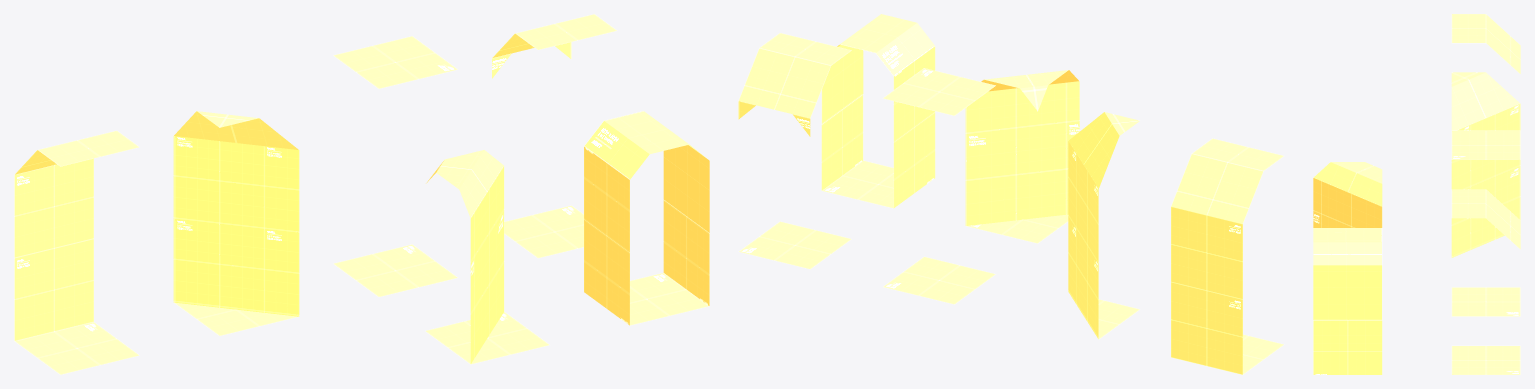
The model's file is dungeon_tilemap2.glb.
3 renders of one model, left to right at view 1: azimuth 30°, elevation 25°; view 2: azimuth 150°, elevation 25°; view 3: azimuth 270°, elevation 25°, orthographic. The views are drawn at different scales.
Parts seen in each view (by area): view 1: wall_corner-col, hall-col, wall-col, hall-corner-col, floor-col, door-col; view 2: wall-col, hall-corner-col, hall-col, door-col, wall_corner-col, floor-col; view 3: hall-col, wall_corner-col, hall-corner-col, floor-col, door-col, wall-col.
Boxes of the visible parts, left/top/right/bottom form: wall_corner-col: left=173, top=111, right=299, bottom=335; hall-col: left=584, top=111, right=709, bottom=325; wall-col: left=14, top=130, right=139, bottom=374; hall-corner-col: left=425, top=150, right=549, bottom=364; floor-col: left=333, top=36, right=457, bottom=296; door-col: left=492, top=14, right=617, bottom=258; wall-col: left=1171, top=138, right=1284, bottom=374; hall-corner-col: left=965, top=70, right=1079, bottom=243; hall-col: left=821, top=14, right=935, bottom=208; door-col: left=738, top=33, right=851, bottom=269; wall_corner-col: left=1068, top=112, right=1139, bottom=339; floor-col: left=883, top=68, right=995, bottom=304; hall-col: left=1313, top=228, right=1382, bottom=374; wall_corner-col: left=1451, top=72, right=1520, bottom=257; hall-corner-col: left=1313, top=162, right=1382, bottom=227; floor-col: left=1451, top=130, right=1520, bottom=316; door-col: left=1451, top=189, right=1520, bottom=374; wall-col: left=1451, top=14, right=1520, bottom=73.
Size of the model in its own units: 28 by 10 by 12.
